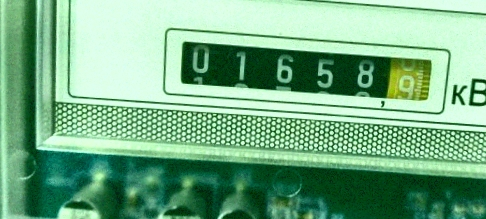0: (188, 42, 210, 73)
1: (231, 48, 250, 81)
5: (313, 55, 336, 88)
6: (273, 50, 295, 84)
8: (354, 55, 376, 88)
9: (393, 72, 416, 101)
screen: (150, 17, 455, 121)
